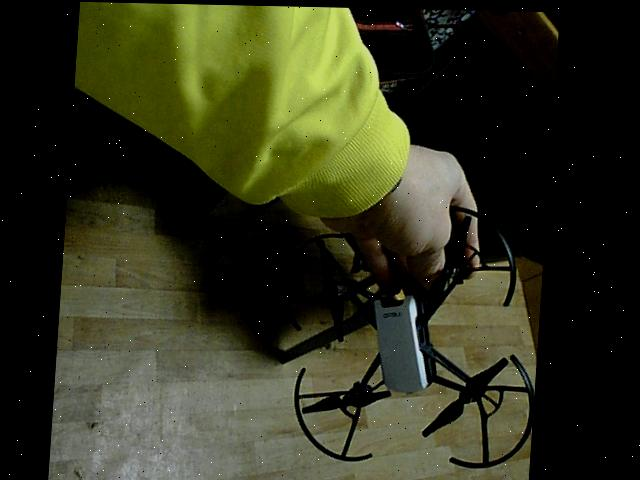drone: (268, 196, 549, 479)
